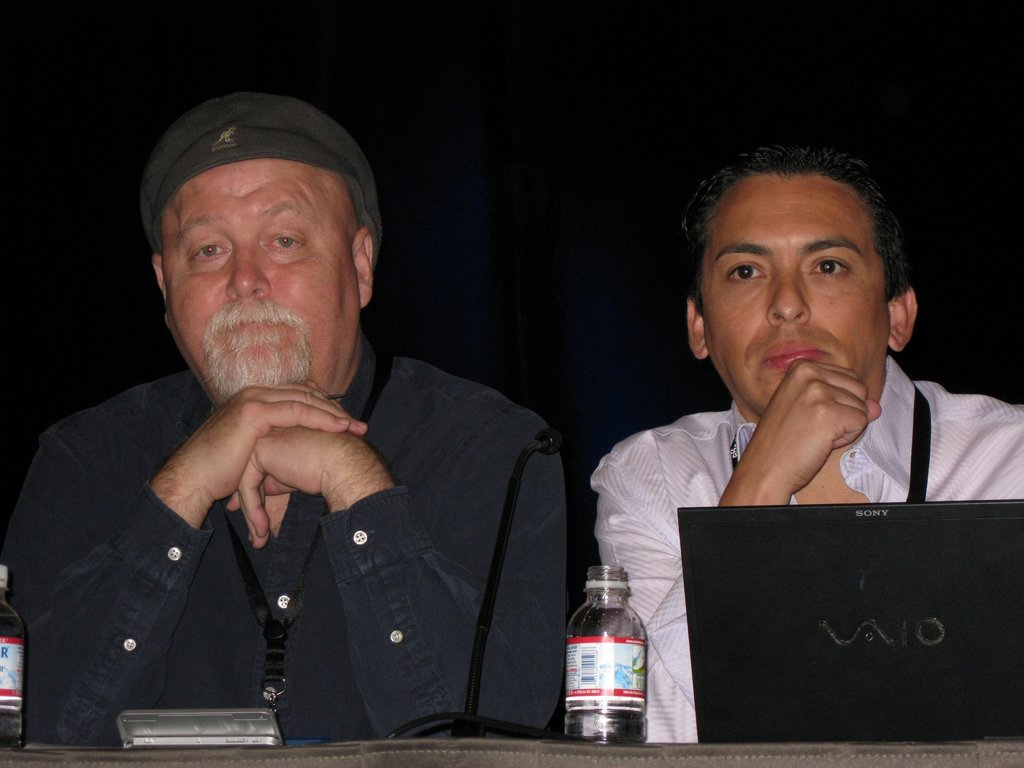Human_hand: (723, 351, 900, 504), (166, 379, 370, 502), (220, 428, 371, 552)
